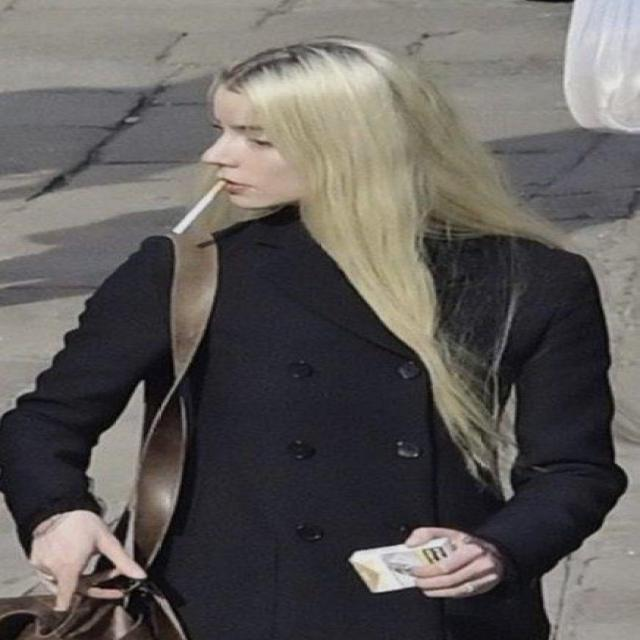rokok: (173, 172, 224, 232)
